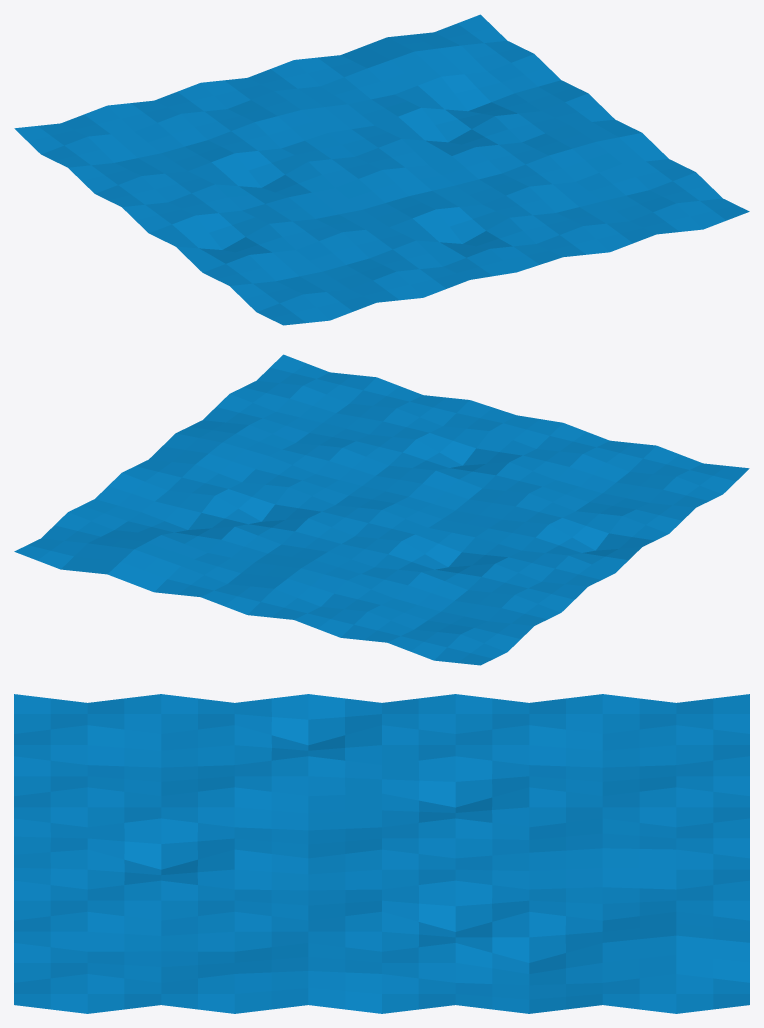
File: model_polytope_water.fbx
3 views of the same model, one above another, from view 1: azimuth 30°, elevation 25°; view 2: azimuth 150°, elevation 25°; view 3: azimuth 270°, elevation 25° (orthographic). The views are drawn at different scales.
Parts seen in each view (by area): view 1: pPlane1; view 2: pPlane1; view 3: pPlane1.
Boxes of the visible parts, box(x1,y1,x2,y2) form: pPlane1: box(14, 14, 749, 325); pPlane1: box(14, 354, 749, 665); pPlane1: box(14, 694, 749, 1013).
Size of the model in its own units: 2359 by 97.3 by 2359.
